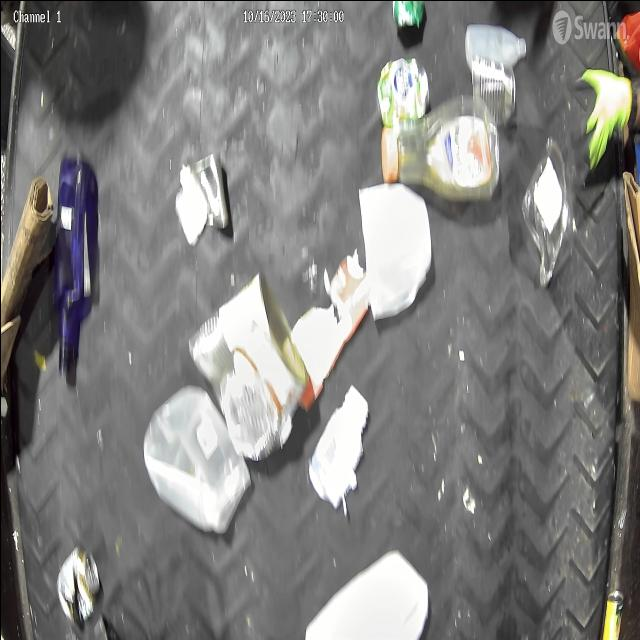can: (189, 274, 307, 468), (466, 48, 514, 140), (51, 542, 102, 626)
milk_jug: (309, 556, 433, 640)
non_white_jug: (379, 92, 497, 198)
